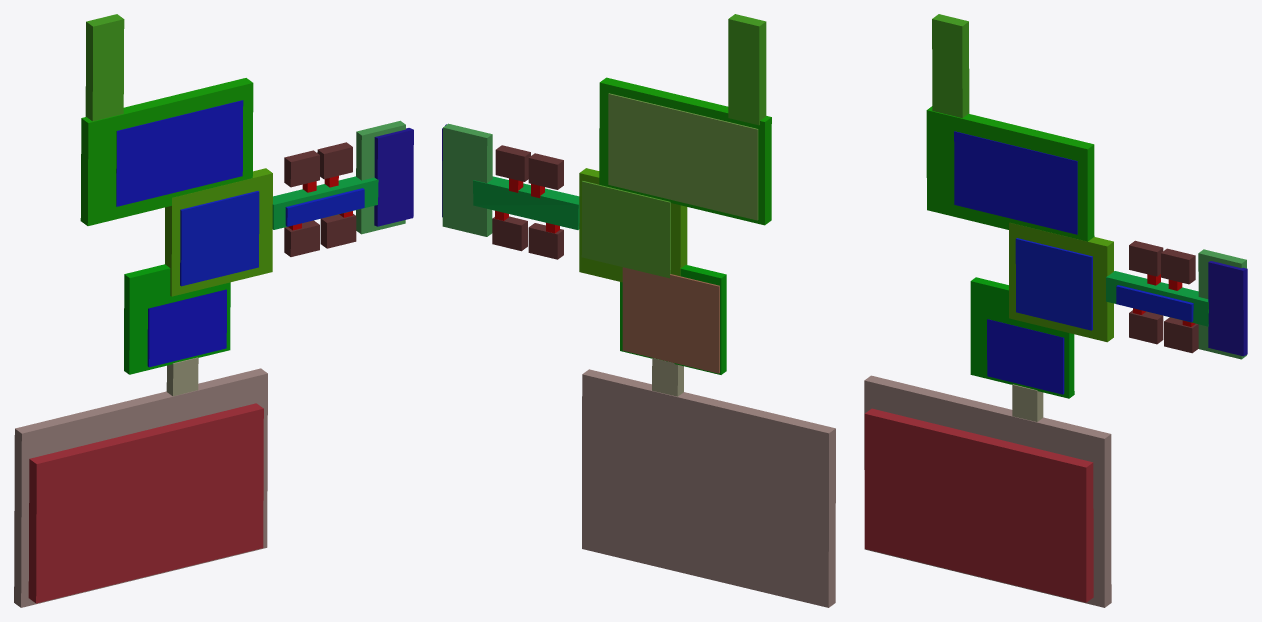
Rendered from floor1.obj.
3 views of the same model, side by side, from view 1: azimuth 30°, elevation 25°; view 2: azimuth 150°, elevation 25°; view 3: azimuth 330°, elevation 25° (orthographic). The views are drawn at different scales.
Parts seen in each view (by area): view 1: Cube.001_Cube.111, Cube.002_Cube.112, Cube.020_Cube.021, Cube.006_Cube.007, Cube.021_Cube.022, Cube.022_Cube.023, Cube.005_Cube.006, Cube.004_Cube.005, Cube.007_Cube.008, Cube.026_Cube.010, Cube.011_Cube.012, Cube.010_Cube.011 (+6 smaller); view 2: Cube.002_Cube.112, Cube.025_Cube.026, Cube.023_Cube.024, Cube.024_Cube.025, Cube.006_Cube.007, Cube.011_Cube.012, Cube.007_Cube.008, Cube.010_Cube.011, Cube.005_Cube.006, Cube.004_Cube.005, Cube.012_Cube.028, Cube.013_Cube.014 (+3 smaller); view 3: Cube.001_Cube.111, Cube.002_Cube.112, Cube.020_Cube.021, Cube.006_Cube.007, Cube.021_Cube.022, Cube.022_Cube.023, Cube.005_Cube.006, Cube.004_Cube.005, Cube.007_Cube.008, Cube.026_Cube.010, Cube.010_Cube.011, Cube.009 (+6 smaller).
Part boxes in pixels (left/top/right/bottom): Cube.001_Cube.111: left=28, top=403, right=263, bottom=603; Cube.002_Cube.112: left=14, top=368, right=267, bottom=607; Cube.020_Cube.021: left=116, top=100, right=243, bottom=206; Cube.006_Cube.007: left=80, top=78, right=253, bottom=225; Cube.021_Cube.022: left=180, top=191, right=259, bottom=286; Cube.022_Cube.023: left=147, top=289, right=226, bottom=367; Cube.005_Cube.006: left=165, top=168, right=272, bottom=296; Cube.004_Cube.005: left=124, top=264, right=230, bottom=374; Cube.007_Cube.008: left=85, top=14, right=124, bottom=121; Cube.026_Cube.010: left=374, top=128, right=413, bottom=226; Cube.011_Cube.012: left=356, top=120, right=405, bottom=234; Cube.010_Cube.011: left=272, top=176, right=378, bottom=229; Cube.002_Cube.112: left=582, top=369, right=835, bottom=607; Cube.025_Cube.026: left=608, top=93, right=758, bottom=220; Cube.023_Cube.024: left=622, top=267, right=719, bottom=373; Cube.024_Cube.025: left=581, top=181, right=670, bottom=278; Cube.006_Cube.007: left=599, top=77, right=771, bottom=225; Cube.011_Cube.012: left=442, top=123, right=492, bottom=236; Cube.007_Cube.008: left=728, top=14, right=766, bottom=125; Cube.010_Cube.011: left=473, top=176, right=579, bottom=229; Cube.005_Cube.006: left=579, top=168, right=687, bottom=282; Cube.004_Cube.005: left=620, top=265, right=726, bottom=374; Cube.012_Cube.028: left=528, top=153, right=563, bottom=189; Cube.013_Cube.014: left=495, top=145, right=530, bottom=181; Cube.001_Cube.111: left=864, top=408, right=1093, bottom=602; Cube.002_Cube.112: left=864, top=375, right=1111, bottom=607; Cube.020_Cube.021: left=954, top=131, right=1077, bottom=234; Cube.006_Cube.007: left=926, top=106, right=1094, bottom=241; Cube.021_Cube.022: left=1015, top=238, right=1092, bottom=330; Cube.022_Cube.023: left=987, top=319, right=1064, bottom=394; Cube.005_Cube.006: left=1009, top=222, right=1113, bottom=342; Cube.004_Cube.005: left=970, top=277, right=1074, bottom=398; Cube.007_Cube.008: left=932, top=14, right=969, bottom=118; Cube.026_Cube.010: left=1208, top=261, right=1247, bottom=356; Cube.010_Cube.011: left=1106, top=271, right=1208, bottom=326; Cube.009: left=1116, top=285, right=1193, bottom=322.
Bounding box in the file's own units: 604 × 834 × 41.73.
